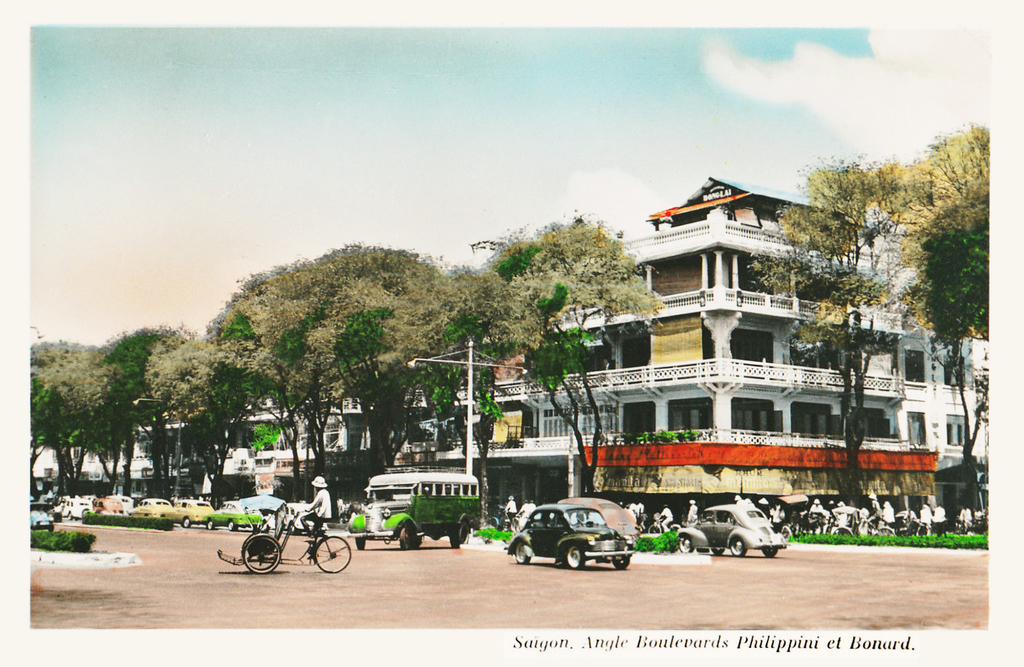Car: (53, 491, 330, 536), (674, 502, 789, 556), (556, 496, 640, 548), (26, 493, 63, 528)
